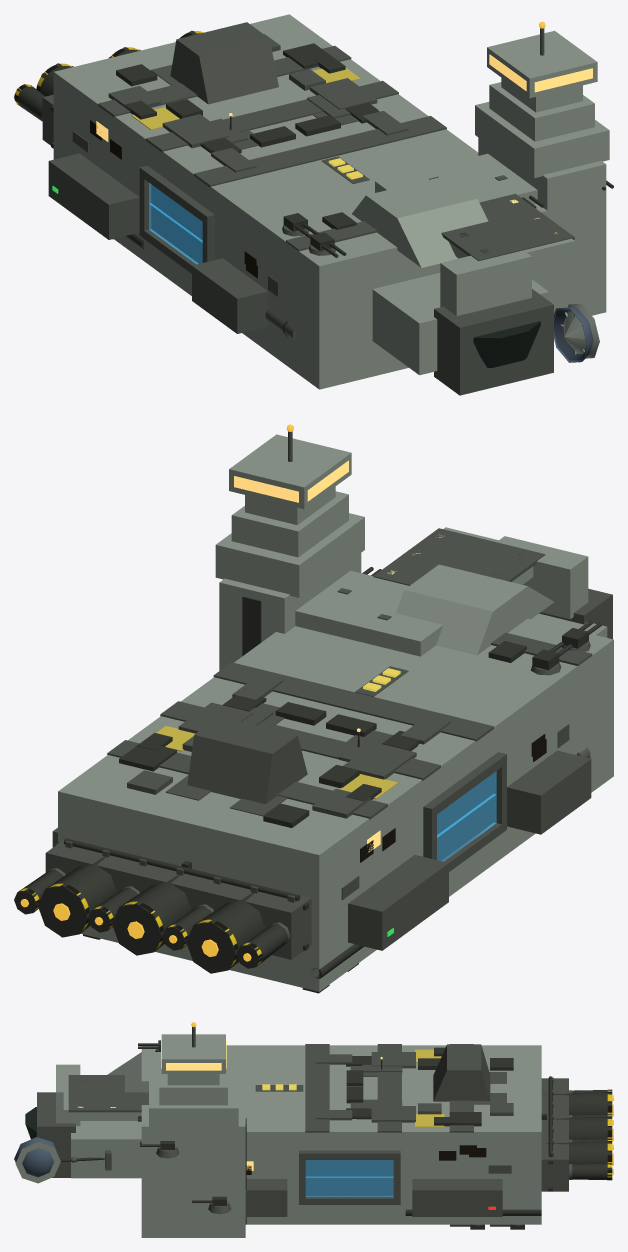
File: capital-l.glb
The picture shows the model from 3 angles, top to bottom: view 1: azimuth 30°, elevation 25°; view 2: azimuth 150°, elevation 25°; view 3: azimuth 270°, elevation 25°; orthographic projection. The views are drawn at different scales.
Parts seen in each view (by area): view 1: hullMain, outriggerPylon, hullNoseTip, canopyFairing, aftTower, hullNose, controlTerrace0, towerBridgeStep, towerBridgeRail, observationGallery, sidePod0L, hullPanelLine0 (+31 smaller); view 2: hullMain, engineHousing (×7), canopyFairing, aftTower, towerBridgeBlock, engineBayExtension, controlTerrace0, towerBridgeRail, sidePod0L, observationGallery, hullPanelLine0, outriggerPylon (+25 smaller); view 3: hullMain, outriggerPylon, hullNose, engineHousing (×4), dockingChamberStarboard, aftTower, controlTerrace0, engineBayExtension, sidePod2R, towerBridgeRail, observationGallery, hullPanelLine0 (+28 smaller).
Part boxes in pixels (x1=…): hullMain: x1=53, y1=14, x2=555, y2=389; outriggerPylon: x1=478, y1=137, x2=606, y2=315; hullNoseTip: x1=434, y1=289, x2=553, y2=395; canopyFairing: x1=352, y1=176, x2=488, y2=267; aftTower: x1=170, y1=22, x2=278, y2=104; hullNose: x1=372, y1=272, x2=548, y2=375; controlTerrace0: x1=475, y1=102, x2=609, y2=178; towerBridgeStep: x1=440, y1=250, x2=531, y2=316; towerBridgeRail: x1=441, y1=193, x2=574, y2=261; observationGallery: x1=487, y1=30, x2=597, y2=98; sidePod0L: x1=192, y1=258, x2=268, y2=333; hullPanelLine0: x1=194, y1=116, x2=446, y2=187; hullMain: x1=58, y1=618, x2=613, y2=991; engineHousing (×7): x1=14, y1=856, x2=287, y2=973; canopyFairing: x1=396, y1=564, x2=554, y2=655; aftTower: x1=187, y1=716, x2=307, y2=804; towerBridgeBlock: x1=295, y1=570, x2=443, y2=656; engineBayExtension: x1=45, y1=839, x2=311, y2=959; controlTerrace0: x1=215, y1=513, x2=364, y2=597; towerBridgeRail: x1=373, y1=528, x2=545, y2=585; sidePod0L: x1=507, y1=750, x2=591, y2=834; observationGallery: x1=229, y1=434, x2=351, y2=509; hullPanelLine0: x1=213, y1=662, x2=493, y2=741; outriggerPylon: x1=219, y1=553, x2=361, y2=670; hullMain: x1=141, y1=1045, x2=541, y2=1224; outriggerPylon: x1=141, y1=1105, x2=245, y2=1237; hullNose: x1=71, y1=1121, x2=141, y2=1178; engineHousing (×4): x1=542, y1=1092, x2=612, y2=1180; dockingChamberStarboard: x1=305, y1=1160, x2=393, y2=1195; aftTower: x1=433, y1=1044, x2=490, y2=1101; controlTerrace0: x1=149, y1=1080, x2=238, y2=1130; engineBayExtension: x1=541, y1=1078, x2=568, y2=1191; sidePod2R: x1=412, y1=1179, x2=480, y2=1216; towerBridgeRail: x1=68, y1=1075, x2=148, y2=1112; observationGallery: x1=161, y1=1034, x2=225, y2=1073; hullPanelLine0: x1=305, y1=1044, x2=329, y2=1132.
Size of the model in its own units: 5.94 by 5.17 by 12.3.
